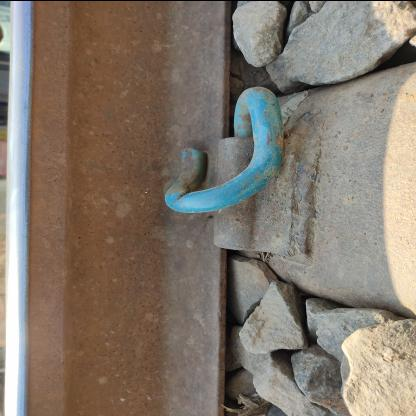Non Defective: (136, 58, 330, 292)
